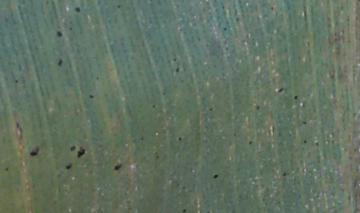tarspot: (75, 148, 88, 159), (28, 146, 41, 157), (112, 162, 123, 172), (153, 150, 161, 162), (56, 56, 63, 68), (73, 6, 82, 14), (55, 30, 64, 38), (64, 163, 73, 171), (69, 144, 78, 152), (276, 86, 285, 94), (12, 78, 20, 86), (312, 140, 320, 148), (138, 134, 146, 142), (87, 93, 97, 99), (212, 172, 219, 180), (292, 93, 299, 101), (300, 119, 308, 126), (206, 106, 214, 113), (115, 3, 123, 10), (176, 135, 183, 142), (174, 66, 181, 73), (247, 139, 254, 146), (221, 25, 228, 32), (234, 16, 241, 23), (281, 170, 287, 178), (254, 103, 260, 111), (150, 102, 156, 110), (94, 74, 100, 82), (181, 207, 188, 213), (302, 138, 308, 145), (67, 25, 73, 32), (171, 56, 177, 63), (268, 5, 275, 11), (3, 166, 9, 172)
